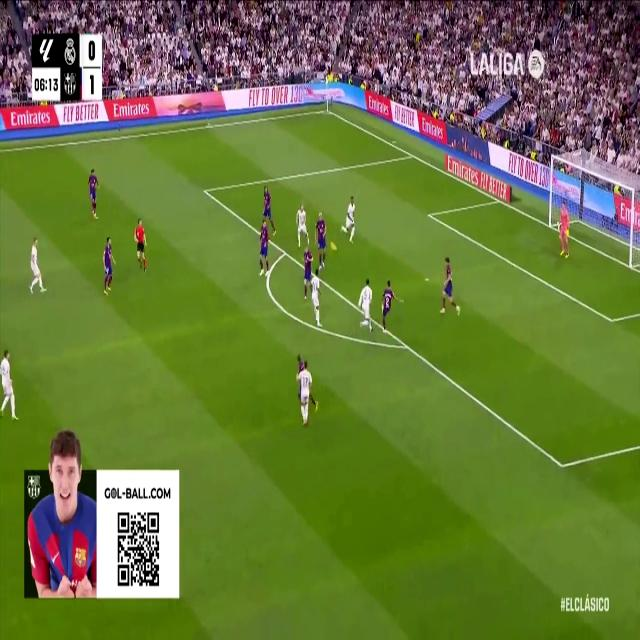bigarea_bottom_inner: (555, 449, 568, 481)
bigarea_top_inner: (200, 181, 210, 199)
bigarea_top_outter: (408, 147, 416, 161)
bottom_arc_area_intersection: (400, 336, 410, 355)
corner: (322, 104, 332, 116)
smallarea_bottom_inner: (607, 309, 616, 331)
smallarea_top_inner: (426, 208, 432, 222)
top_arc_area_intersection: (281, 244, 288, 260)
